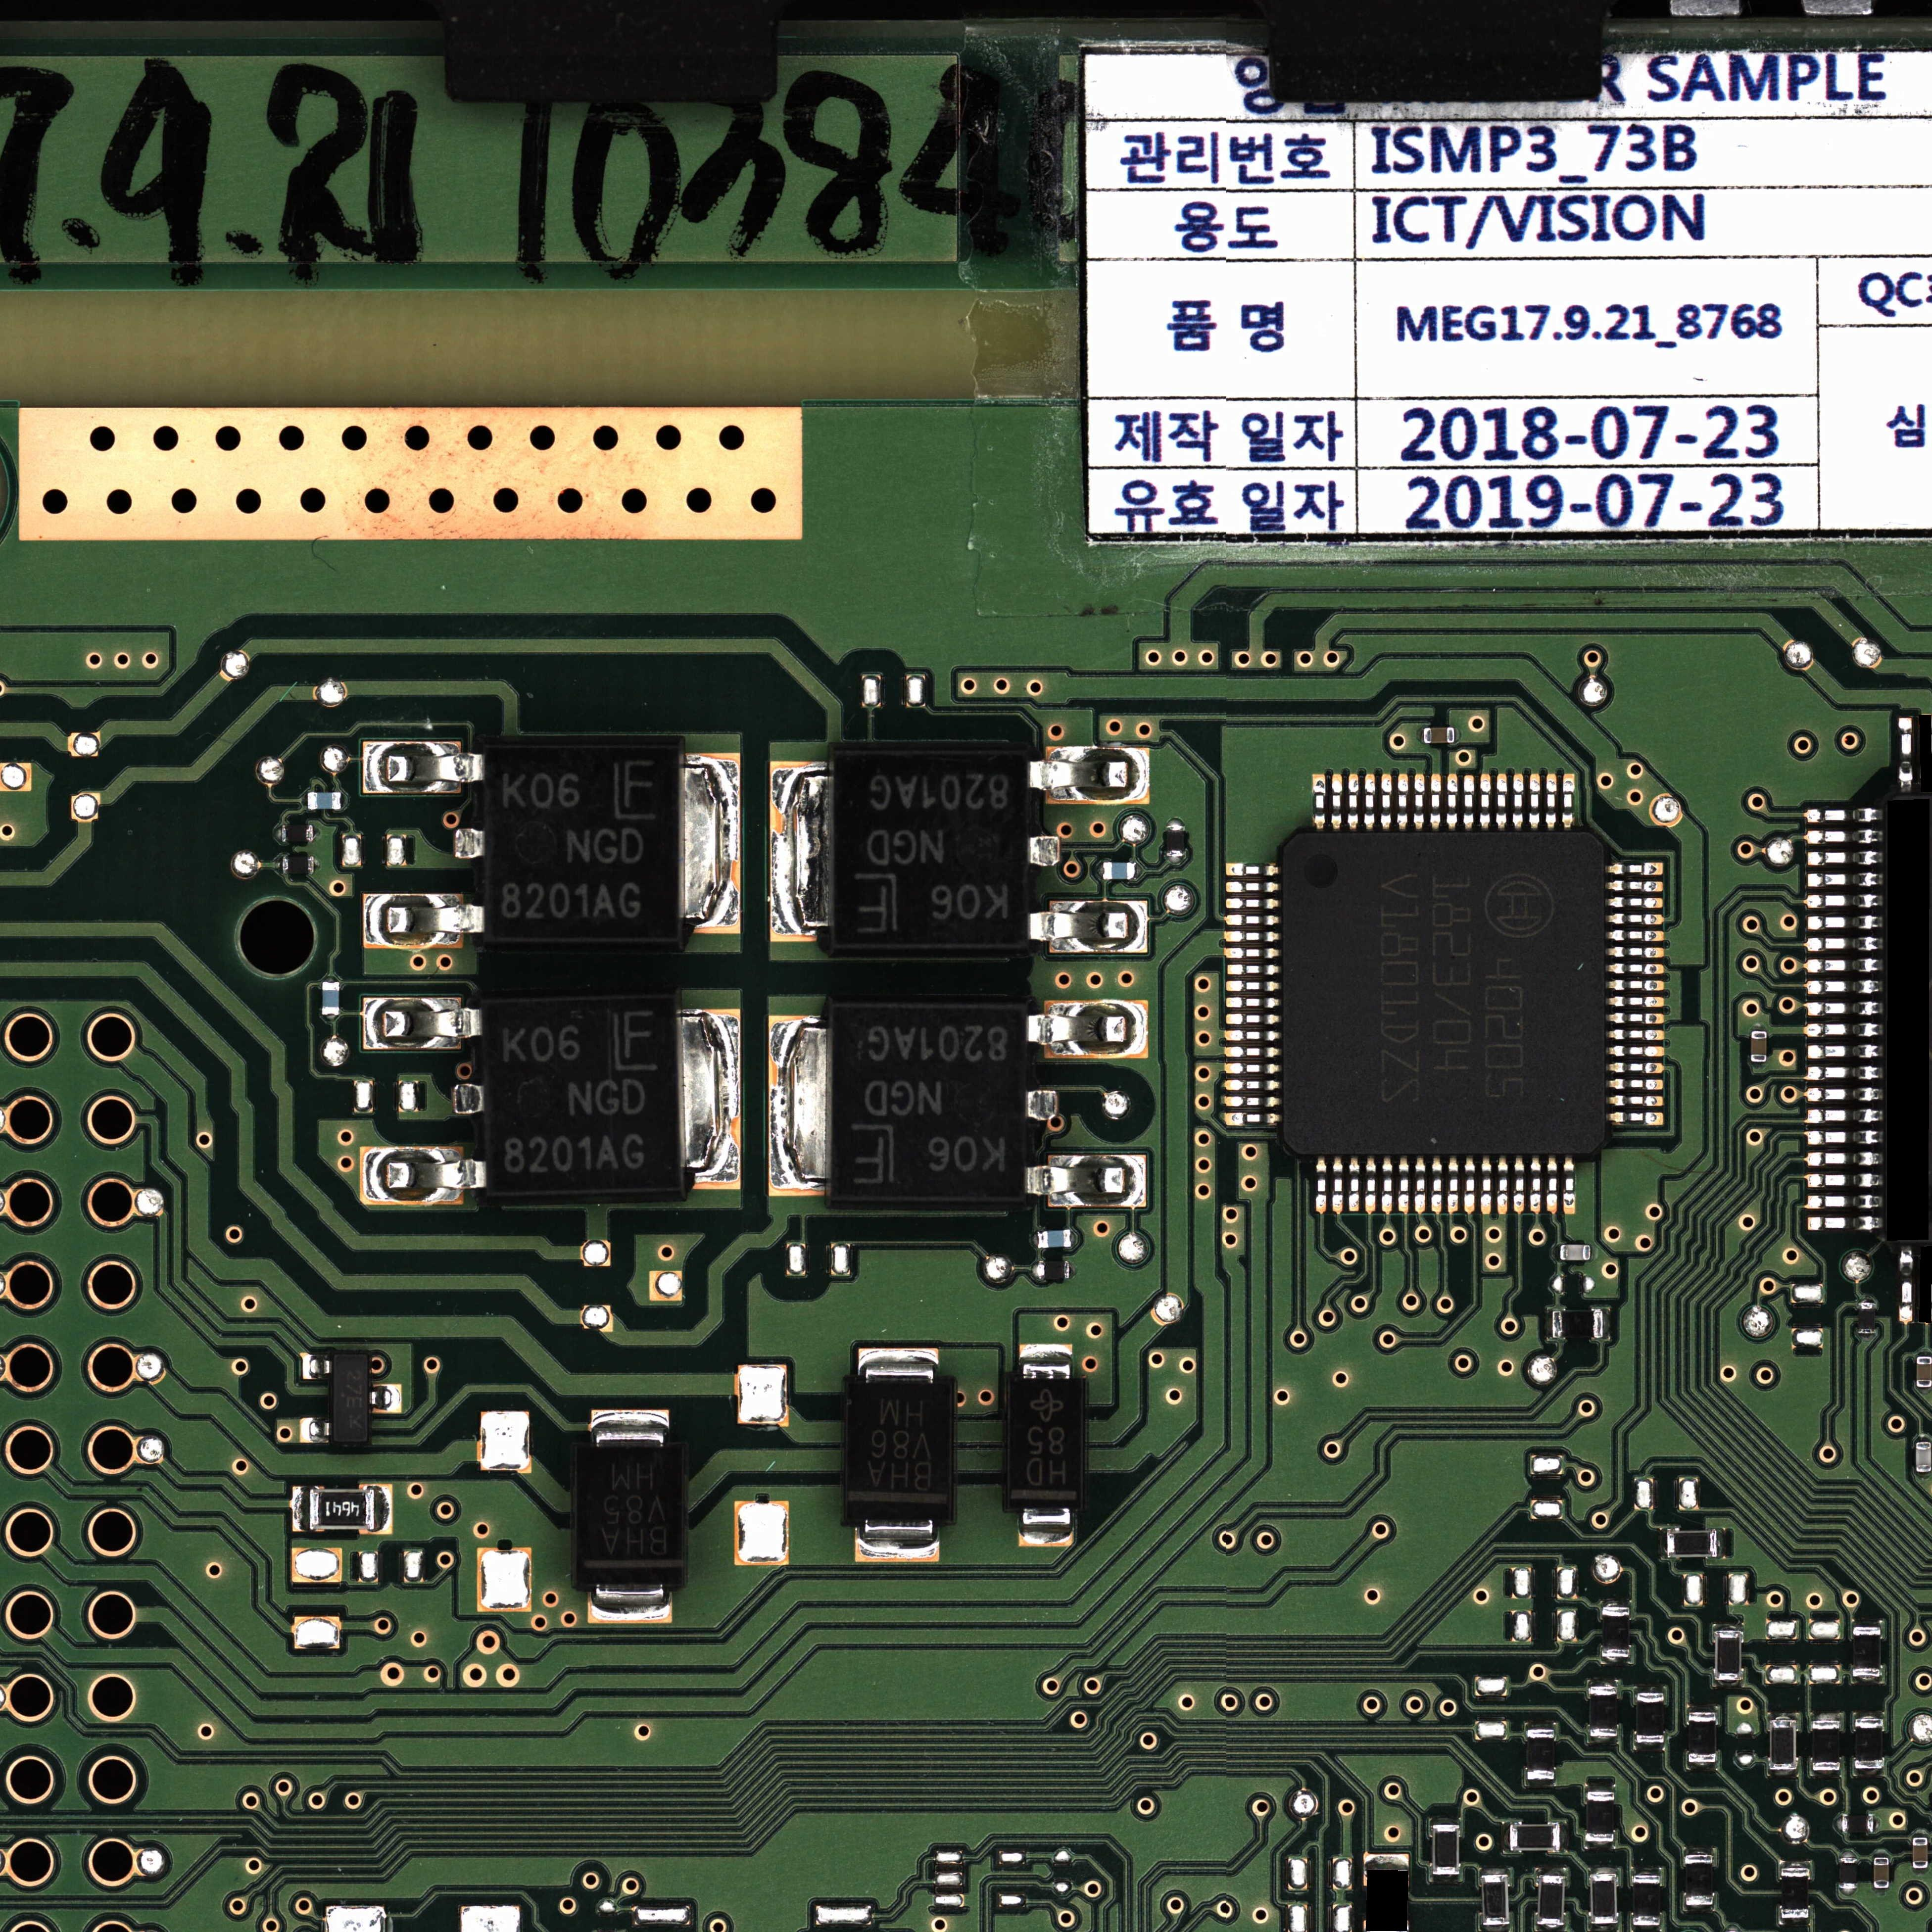Package: (1282, 832, 1605, 1156), (832, 751, 1027, 949), (483, 747, 679, 942), (832, 1006, 1025, 1202), (483, 1001, 677, 1193), (574, 1448, 685, 1585), (845, 1383, 953, 1521), (1007, 1379, 1085, 1507), (333, 1352, 369, 1444), (309, 1489, 374, 1529), (1553, 1310, 1603, 1338), (1602, 1607, 1630, 1656), (1812, 1721, 1840, 1770), (1855, 1720, 1883, 1768), (1590, 1687, 1617, 1736), (1688, 1713, 1716, 1762), (1781, 1869, 1809, 1918), (1636, 1693, 1664, 1742), (1527, 1730, 1554, 1779), (1686, 1855, 1713, 1905), (1587, 1791, 1614, 1841), (1633, 1876, 1660, 1925), (1853, 1627, 1881, 1676), (1510, 1825, 1560, 1850), (1433, 1825, 1458, 1875), (1667, 1531, 1716, 1556), (1716, 1631, 1741, 1680), (1483, 1875, 1507, 1925), (1771, 1720, 1796, 1769), (1539, 1876, 1564, 1925), (1591, 1874, 1616, 1923), (1165, 825, 1185, 857), (307, 792, 341, 810), (322, 982, 340, 1015), (1038, 1230, 1071, 1248), (1841, 1815, 1874, 1833), (1858, 1302, 1876, 1334), (283, 856, 314, 873), (1038, 1261, 1069, 1279), (281, 825, 313, 842), (1103, 862, 1135, 879), (1839, 1858, 1856, 1888), (1423, 727, 1454, 743), (1751, 1031, 1767, 1062), (1912, 1838, 1928, 1869), (1560, 1245, 1591, 1260), (1916, 1442, 1932, 1472), (1874, 1857, 1889, 1888), (1917, 1357, 1932, 1387)
Solder: (676, 1008, 741, 1190), (768, 1015, 832, 1196), (679, 752, 741, 933), (770, 761, 831, 941), (1027, 746, 1149, 803), (363, 1147, 483, 1204), (1025, 1001, 1146, 1058), (364, 893, 482, 949), (364, 997, 482, 1051), (364, 741, 482, 794), (1028, 901, 1147, 954), (1025, 1156, 1146, 1207), (856, 1522, 939, 1562), (587, 1585, 671, 1623), (591, 1409, 669, 1448), (858, 1348, 938, 1383), (1018, 1509, 1075, 1546), (1019, 1344, 1072, 1379), (1899, 1246, 1914, 1323), (1898, 718, 1913, 791), (1808, 1216, 1884, 1230), (1807, 1195, 1883, 1209), (1806, 1153, 1881, 1167), (1807, 1174, 1882, 1188), (1806, 1109, 1882, 1123), (1807, 1130, 1883, 1144), (1805, 938, 1881, 952), (1806, 1002, 1882, 1016), (1806, 1023, 1881, 1037), (1806, 872, 1882, 886), (1806, 851, 1882, 865), (1806, 808, 1881, 822), (1805, 1068, 1880, 1082), (1806, 1089, 1881, 1103), (1806, 959, 1881, 972), (1806, 981, 1881, 995), (1807, 1045, 1882, 1059), (1806, 916, 1881, 930), (1806, 894, 1881, 908), (1806, 830, 1881, 844), (369, 1384, 402, 1414), (1025, 1091, 1058, 1120), (1028, 835, 1060, 865), (454, 828, 483, 859), (453, 1083, 482, 1113), (375, 1485, 392, 1533), (1224, 1112, 1280, 1126), (300, 1418, 331, 1443), (1606, 862, 1664, 875), (1606, 1111, 1663, 1124), (292, 1486, 308, 1532), (1364, 1853, 1409, 1869), (302, 1355, 332, 1380), (1226, 863, 1279, 877), (1606, 963, 1665, 975), (1224, 1062, 1280, 1075), (1224, 1046, 1280, 1059), (1313, 773, 1325, 831), (1530, 1157, 1542, 1214), (1225, 1029, 1280, 1042), (1562, 773, 1575, 830), (1225, 1013, 1280, 1025), (1225, 947, 1279, 960), (1225, 996, 1279, 1009), (1606, 1012, 1664, 1024), (1606, 979, 1664, 991), (1546, 1156, 1558, 1214), (1226, 880, 1279, 893), (1431, 1157, 1443, 1214), (1513, 1157, 1525, 1214), (1224, 1079, 1280, 1091), (1224, 1095, 1280, 1108), (1606, 929, 1664, 941), (1606, 1095, 1663, 1107), (1606, 1029, 1664, 1041), (1497, 1157, 1509, 1214), (1480, 1157, 1492, 1214), (1606, 880, 1663, 892), (1606, 1078, 1663, 1090), (1606, 1045, 1663, 1057), (1225, 930, 1279, 943), (1226, 980, 1280, 992), (1606, 996, 1664, 1007), (1464, 1157, 1475, 1215), (1563, 1156, 1575, 1214), (1225, 914, 1279, 926), (1448, 1157, 1459, 1214), (1226, 897, 1279, 910), (1226, 964, 1279, 976), (1430, 773, 1442, 830), (1414, 1158, 1426, 1215), (1382, 1158, 1393, 1215), (1398, 1158, 1409, 1215), (1546, 773, 1557, 830), (1606, 946, 1664, 958), (1348, 773, 1359, 830), (1331, 773, 1343, 830), (1496, 773, 1507, 830), (1606, 913, 1663, 924), (1606, 1062, 1663, 1073), (1606, 897, 1663, 908), (1365, 1158, 1377, 1214), (1349, 1158, 1360, 1213), (1381, 773, 1392, 830), (1397, 773, 1408, 830), (1414, 773, 1425, 830), (1447, 773, 1458, 831), (1529, 773, 1540, 830), (1364, 773, 1375, 830), (1480, 773, 1491, 830), (1513, 773, 1524, 830), (1332, 1158, 1343, 1214), (1463, 774, 1474, 830), (1316, 1157, 1327, 1214), (1781, 1857, 1810, 1868), (1685, 1845, 1713, 1855), (1633, 1866, 1661, 1876), (1590, 1865, 1617, 1874), (1713, 1680, 1744, 1688), (1602, 1307, 1610, 1340), (1431, 1817, 1461, 1825), (1430, 1875, 1460, 1882), (1660, 1528, 1667, 1558), (1636, 1686, 1664, 1693), (1502, 1823, 1510, 1851), (1712, 1624, 1743, 1631), (1559, 1822, 1567, 1851), (1481, 1867, 1508, 1875), (1590, 1923, 1617, 1931), (1637, 1742, 1663, 1750), (1539, 1867, 1565, 1875), (1717, 1528, 1724, 1558), (1546, 1308, 1552, 1340), (1854, 1768, 1883, 1775), (1688, 1706, 1717, 1713), (1852, 1677, 1881, 1684), (1769, 1713, 1797, 1720), (1586, 1841, 1614, 1848), (1590, 1737, 1617, 1743), (1781, 1918, 1809, 1925), (1537, 1925, 1564, 1932), (1482, 1925, 1509, 1932), (1527, 1780, 1554, 1787), (1855, 1713, 1883, 1720), (1812, 1714, 1840, 1721), (1853, 1620, 1881, 1627), (1686, 1905, 1713, 1912), (1587, 1785, 1614, 1791), (1813, 1769, 1839, 1776), (1688, 1763, 1716, 1769), (1589, 1680, 1616, 1686), (1602, 1601, 1629, 1607), (1633, 1926, 1660, 1932), (1527, 1723, 1554, 1729), (1602, 1657, 1629, 1663), (1165, 817, 1185, 825), (1771, 1769, 1795, 1775), (341, 792, 349, 810), (321, 1015, 339, 1023), (1069, 1261, 1077, 1280), (1454, 726, 1462, 744), (274, 824, 281, 843), (1135, 863, 1143, 879), (1030, 1232, 1038, 1249), (1070, 1230, 1078, 1248), (300, 791, 307, 810), (275, 855, 282, 874), (1166, 857, 1185, 864), (1416, 727, 1424, 743), (313, 824, 321, 842), (1031, 1261, 1038, 1279), (314, 856, 321, 873), (321, 975, 339, 981), (1096, 863, 1103, 879), (1555, 1244, 1561, 1260), (1859, 1297, 1875, 1302), (1841, 1889, 1855, 1895), (1859, 1334, 1875, 1339), (1918, 1351, 1931, 1356), (1917, 1436, 1931, 1442), (1841, 1852, 1854, 1858), (1752, 1026, 1766, 1032), (1752, 1062, 1766, 1067), (1836, 1816, 1841, 1830), (1917, 1472, 1931, 1477), (1590, 1245, 1594, 1260), (1874, 1817, 1879, 1830), (1918, 1387, 1931, 1392), (1875, 1888, 1887, 1893), (1914, 1869, 1927, 1873), (1875, 1853, 1887, 1857), (1914, 1834, 1926, 1837)
